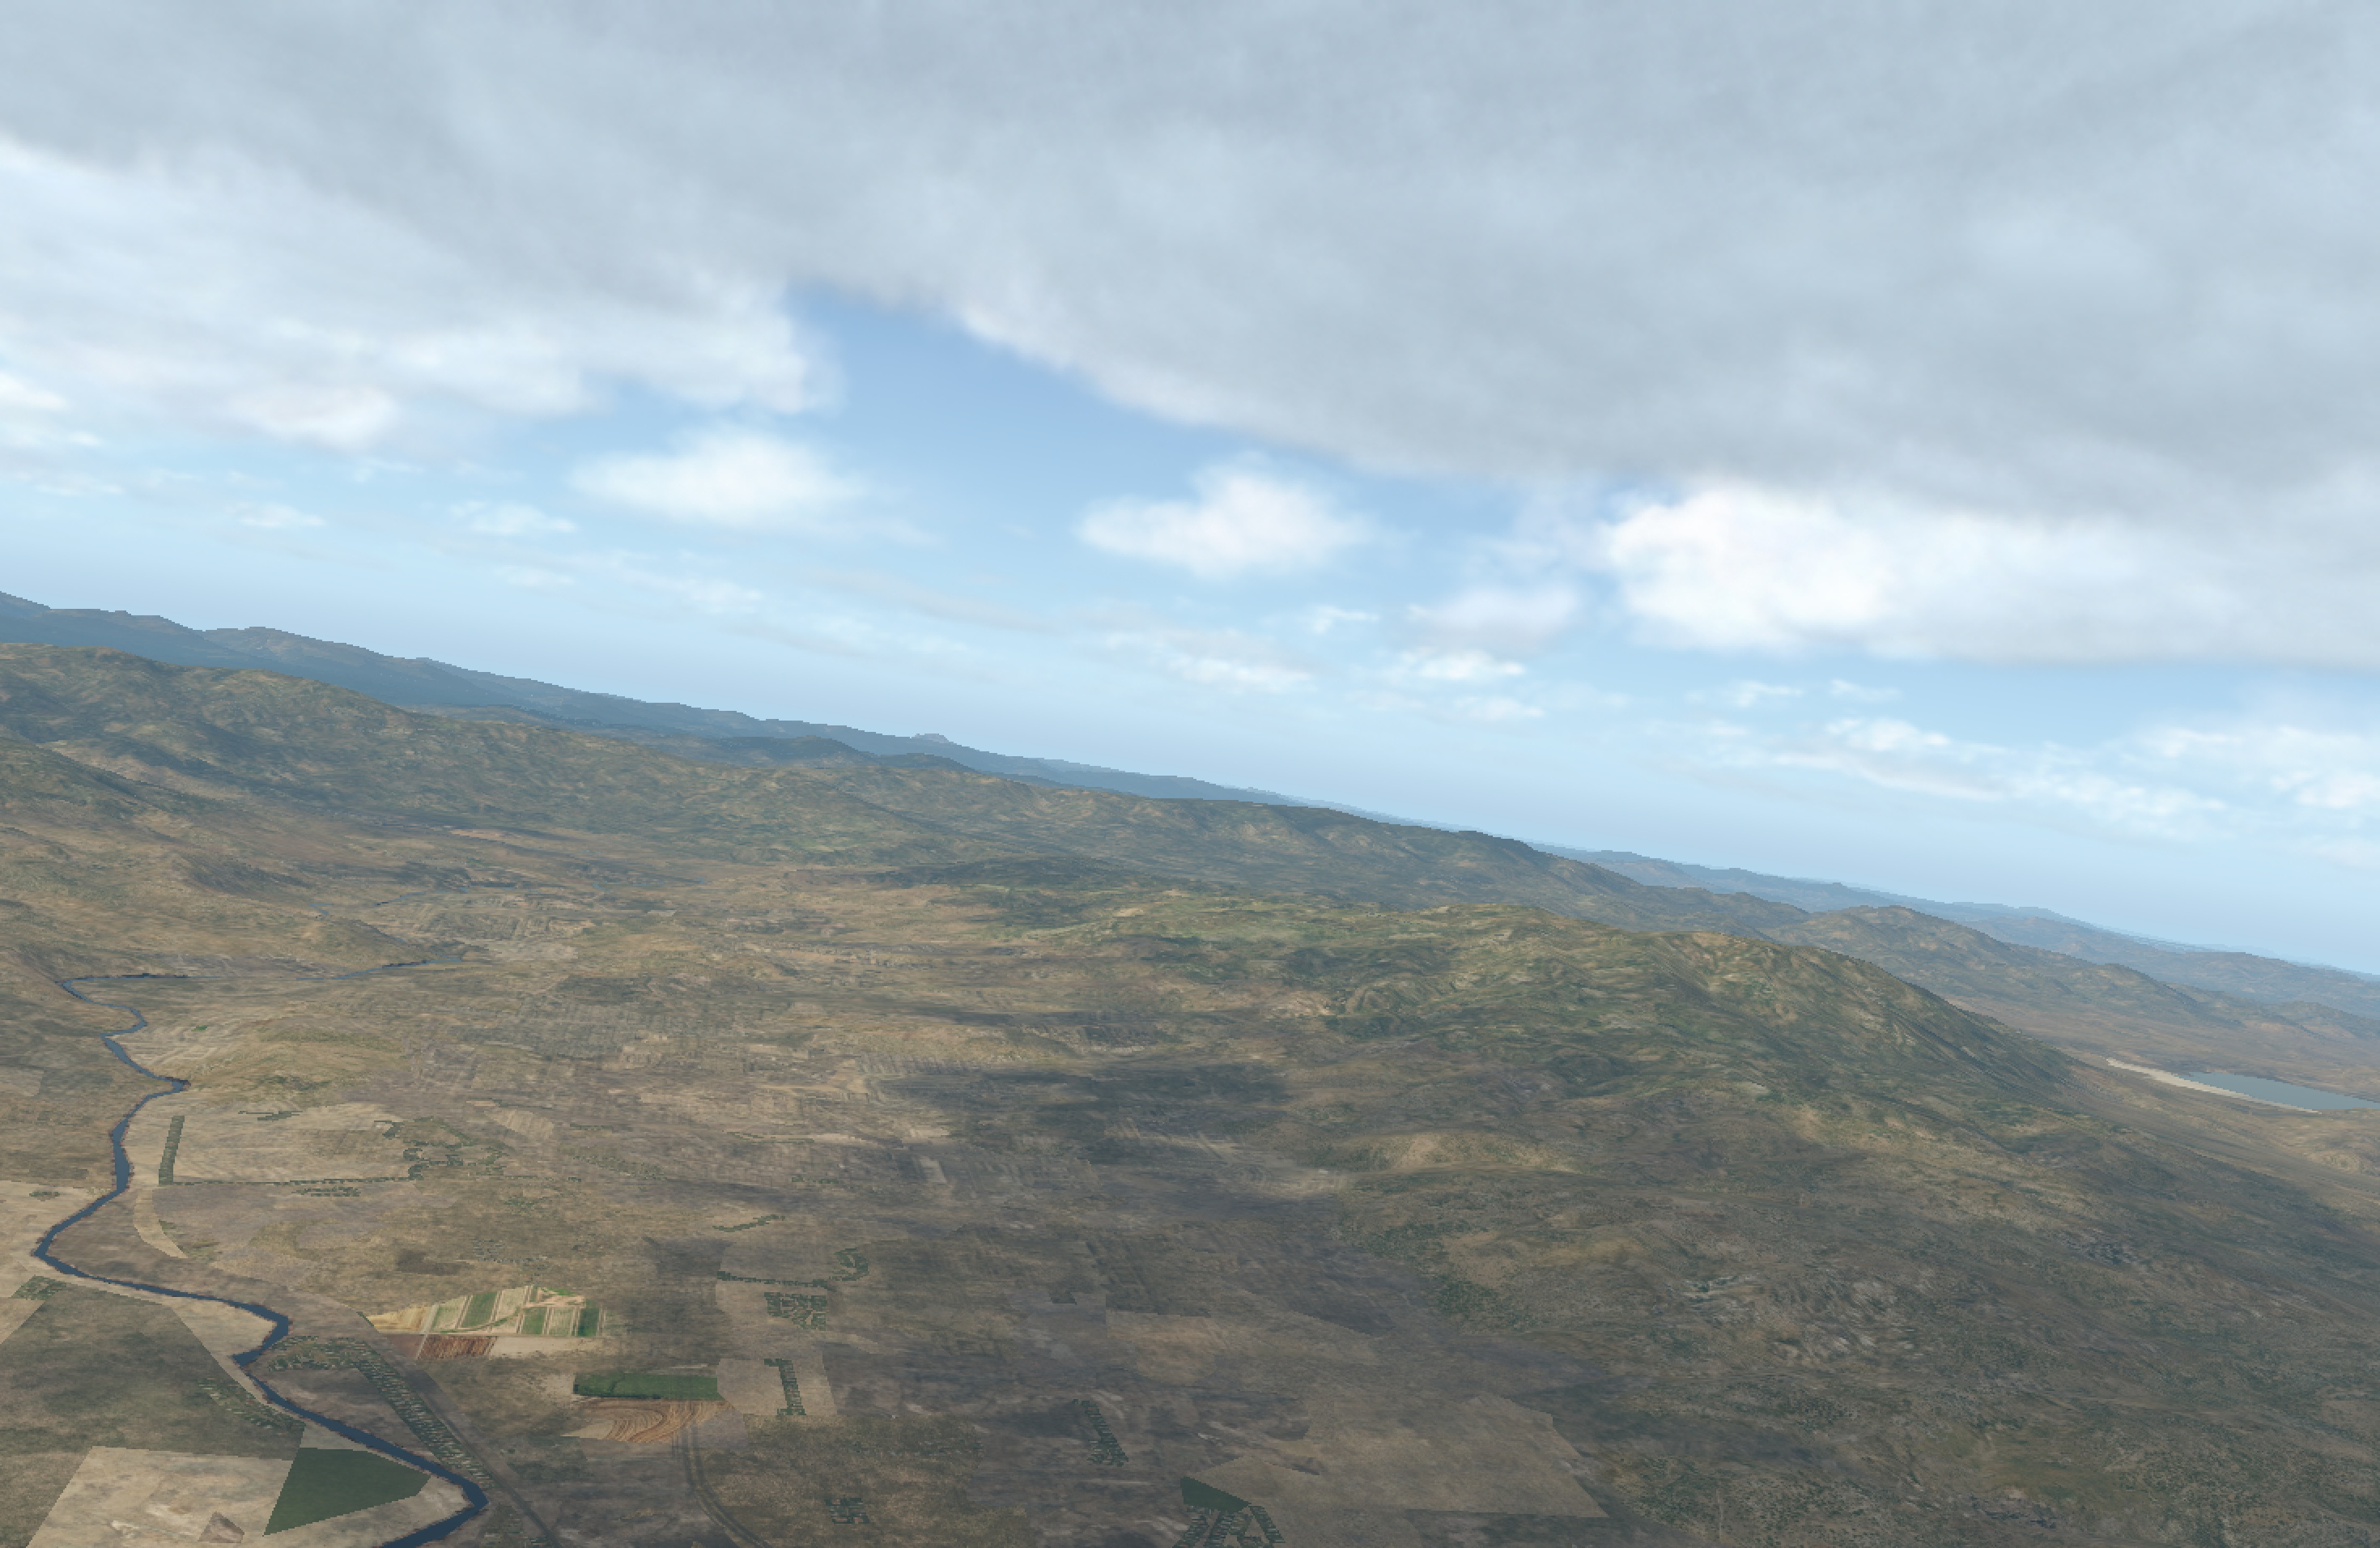aircraft: (1622, 1102, 1632, 1107)
